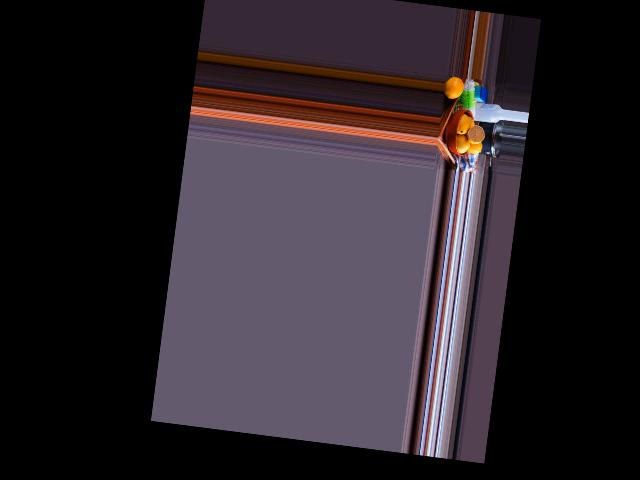lemon: (442, 75, 464, 101)
